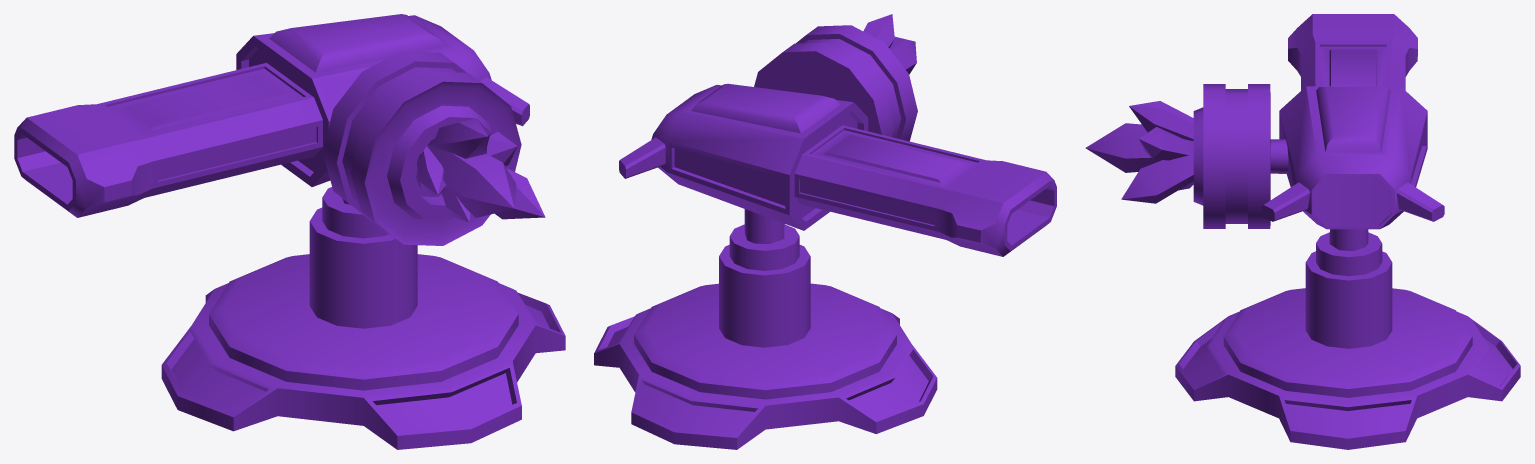
File: ChainBottom.fbx
The picture shows the model from 3 angles, left to right: view 1: azimuth 30°, elevation 25°; view 2: azimuth 150°, elevation 25°; view 3: azimuth 270°, elevation 25°; orthographic projection. The views are drawn at different scales.
Visible parts, largest first — view 1: ChainBottom; view 2: ChainBottom; view 3: ChainBottom.
Boxes of the visible parts, <box> form: ChainBottom: <box>14,14,565,449</box>; ChainBottom: <box>594,14,1056,449</box>; ChainBottom: <box>1085,14,1520,449</box>.
Size of the model in its own units: 127 by 84.97 by 119.
